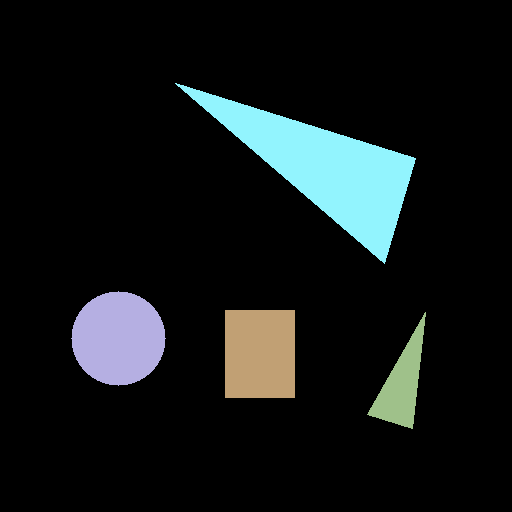circle: (71, 291, 165, 385)
rectangle: (225, 310, 294, 397)
triangle: (175, 83, 415, 263), (367, 312, 425, 428)
